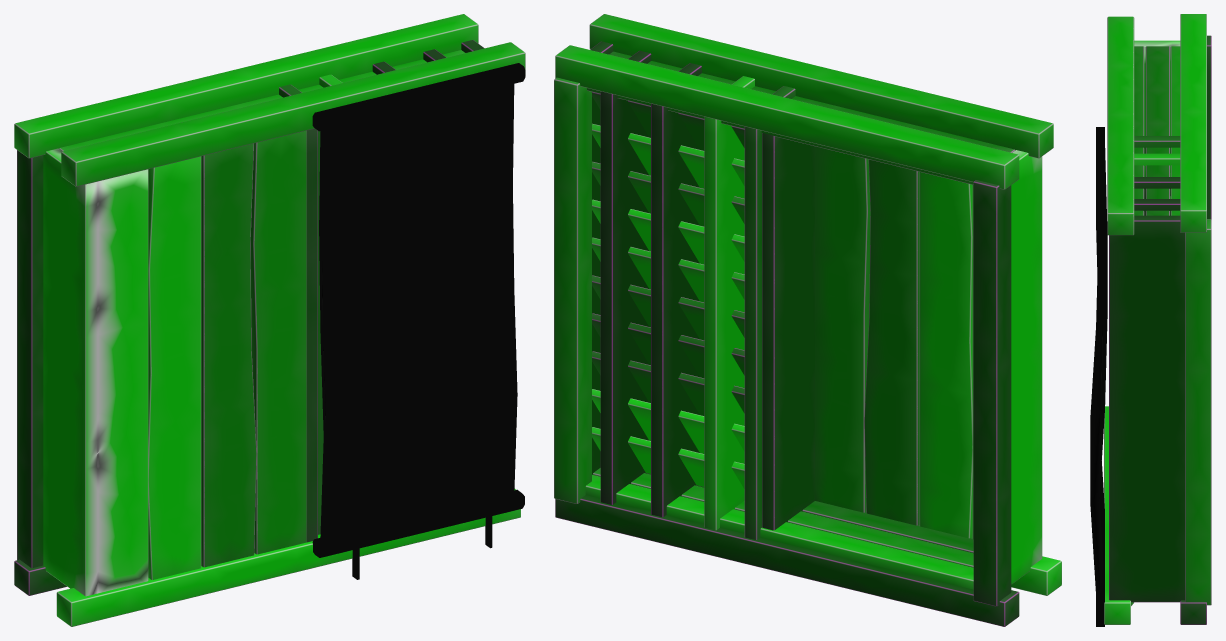
The model's file is window_400x300_10.fbx.
The picture shows the model from 3 angles, left to right: view 1: azimuth 30°, elevation 25°; view 2: azimuth 150°, elevation 25°; view 3: azimuth 270°, elevation 25°; orthographic projection. The views are drawn at different scales.
Visible parts, largest first — view 1: window_400x300_10; view 2: window_400x300_10; view 3: window_400x300_10.
Part boxes in pixels (box(x1,y1,x2,y2)): window_400x300_10: box(14, 14, 525, 626); window_400x300_10: box(554, 14, 1061, 626); window_400x300_10: box(1090, 14, 1211, 626).
Size of the model in its own units: 2.1 by 2.11 by 0.5397.
